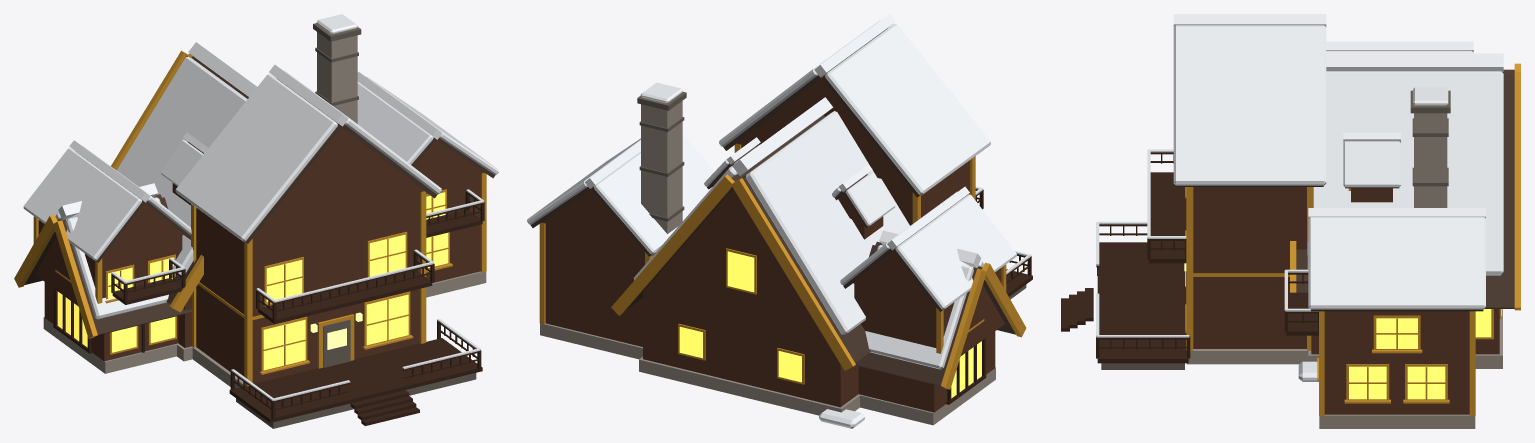
Rendered from lodge-tier-2-chalet70s.glb.
3 renders of one model, left to right at view 1: azimuth 30°, elevation 25°; view 2: azimuth 150°, elevation 25°; view 3: azimuth 270°, elevation 25°, orthographic. The views are drawn at different scales.
Visible parts, largest first — view 1: lodge-tier-2-chalet70s; view 2: lodge-tier-2-chalet70s; view 3: lodge-tier-2-chalet70s.
Boxes of the visible parts, x1=… form: lodge-tier-2-chalet70s: x1=14, y1=14, x2=498, y2=428; lodge-tier-2-chalet70s: x1=527, y1=14, x2=1032, y2=428; lodge-tier-2-chalet70s: x1=1061, y1=14, x2=1520, y2=428.
Bounding box in the file's own units: 25.37 × 15.95 × 21.96.
